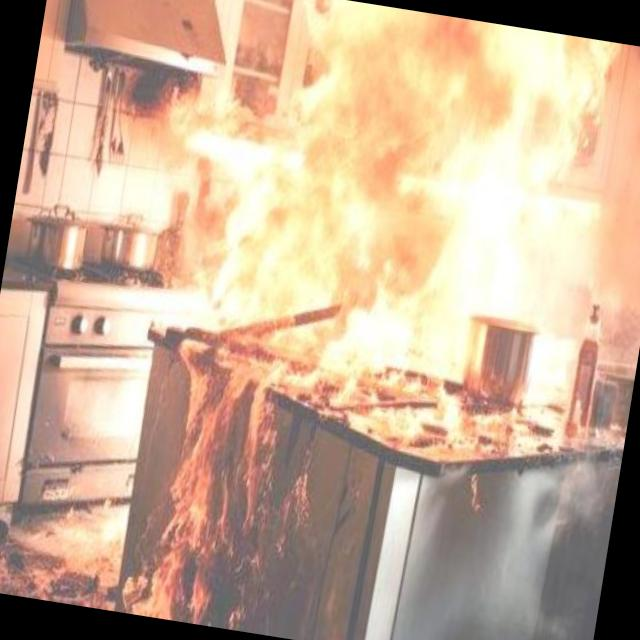Fire_Dangerous: (165, 0, 616, 407), (115, 347, 341, 640)
